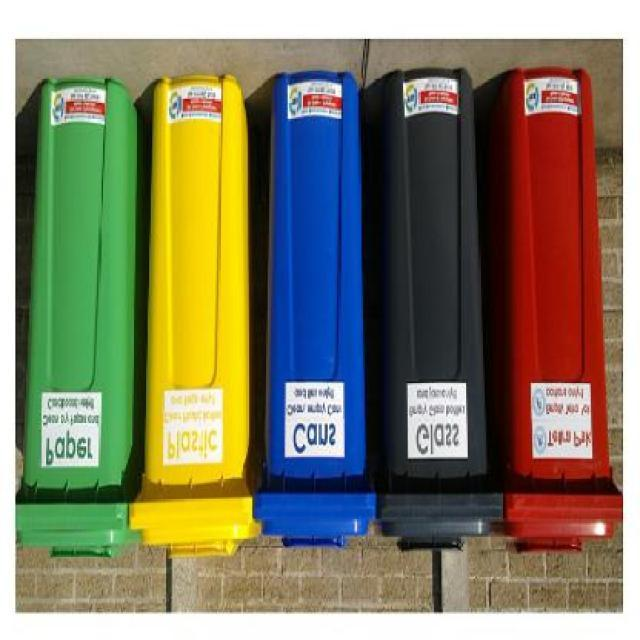garbage container: (489, 66, 625, 560), (16, 68, 145, 576), (134, 66, 262, 577), (370, 75, 504, 557), (253, 66, 381, 559)
